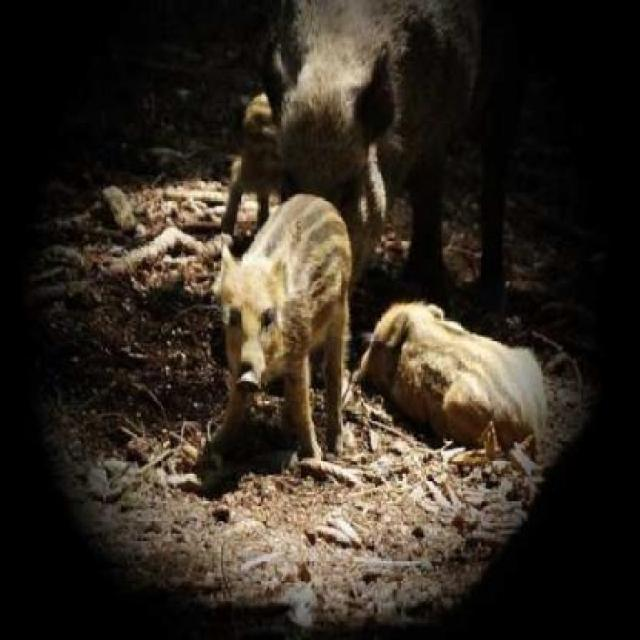Boar: (172, 182, 385, 506)
